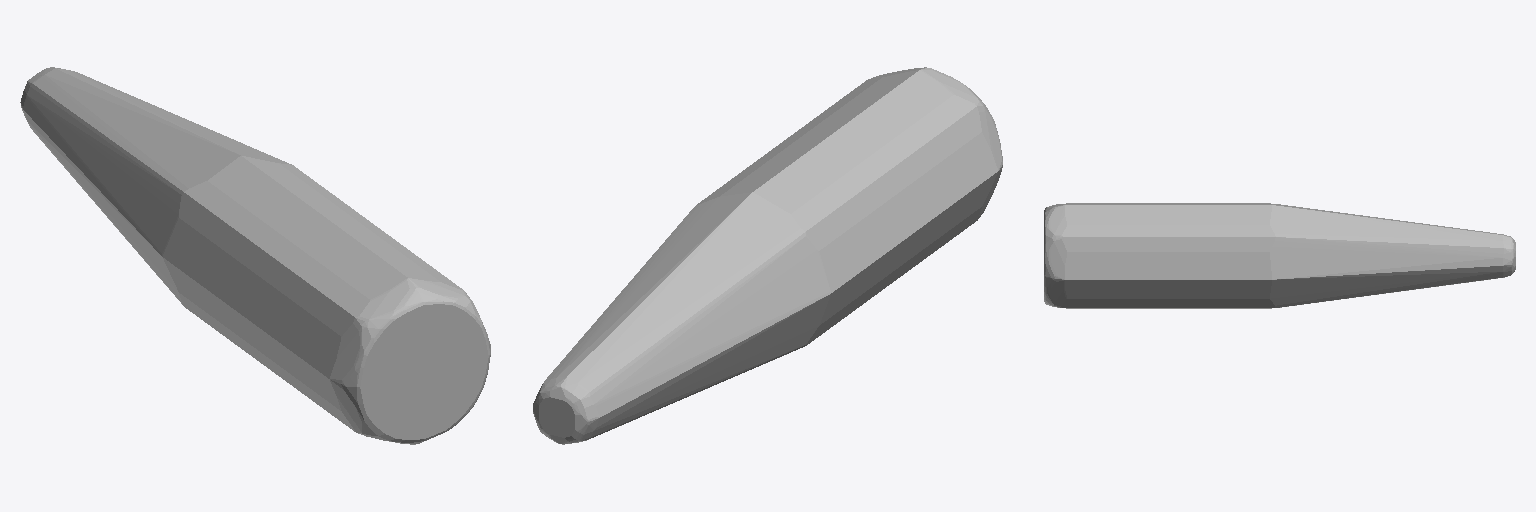
The robot description file, URDF, robot "root":
<?xml version="1.0"?>
<robot name="root">
  <link name="base_link">
    <visual>
      <origin xyz="0 0 0" rpy="0 0 0" />
      <geometry>
        <mesh filename="../meshes/unidex_core_bottle-aec6aa917d61d1faebe67d9b32c3ddf8_010.obj" scale="1.0000E+00 1.0000E+00 1.0000E+00" />
      </geometry>
      <material name="">
        <color rgba="7.50E-01 7.50E-01 7.50E-01 1" />
      </material>
    </visual>
    <collision>
      <origin xyz="0 0 0" rpy="0 0 0" />
      <geometry>
        <mesh filename="../meshes/unidex_core_bottle-aec6aa917d61d1faebe67d9b32c3ddf8_010.obj" scale="1.0000E+00 1.0000E+00 1.0000E+00" />
      </geometry>
    </collision>
  </link>
</robot>

--- What the picture shows (computed from the rendered views, not written in the file) ---
Views: 3 orthographic renders of the robot side by side, from view 1: azimuth 30°, elevation 25°; view 2: azimuth 150°, elevation 25°; view 3: azimuth 270°, elevation 25°.
Robot: root — 1 links, 0 joints (none); root link base_link; default pose: every joint at zero.
Links seen in each view (by area): view 1: base_link; view 2: base_link; view 3: base_link.
Link boxes in pixels (bbox=[...]): base_link: bbox=[20, 67, 490, 444]; base_link: bbox=[533, 67, 1002, 444]; base_link: bbox=[1044, 203, 1515, 308].
Bounding box of the posed robot: 0.046 × 0.1923 × 0.046 m (x, y, z).
Meshes: 1 distinct files referenced, 1 mesh visuals loaded (1 OBJ).
